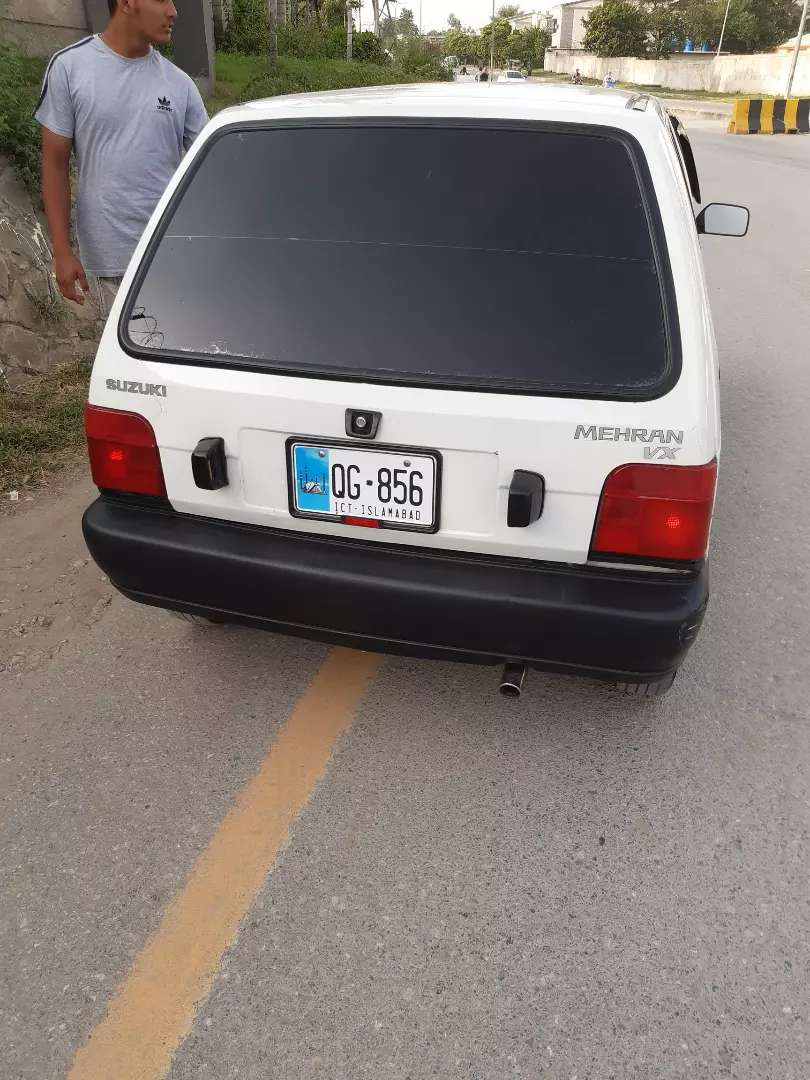plate: (279, 433, 445, 540)
